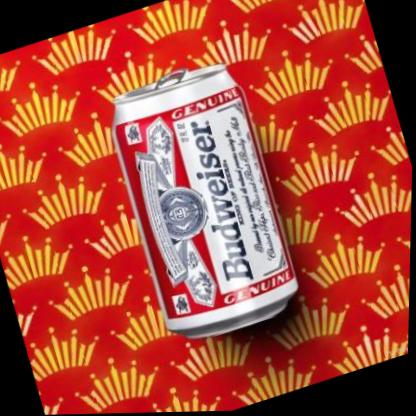metal: (229, 0, 410, 380), (113, 65, 296, 335)
